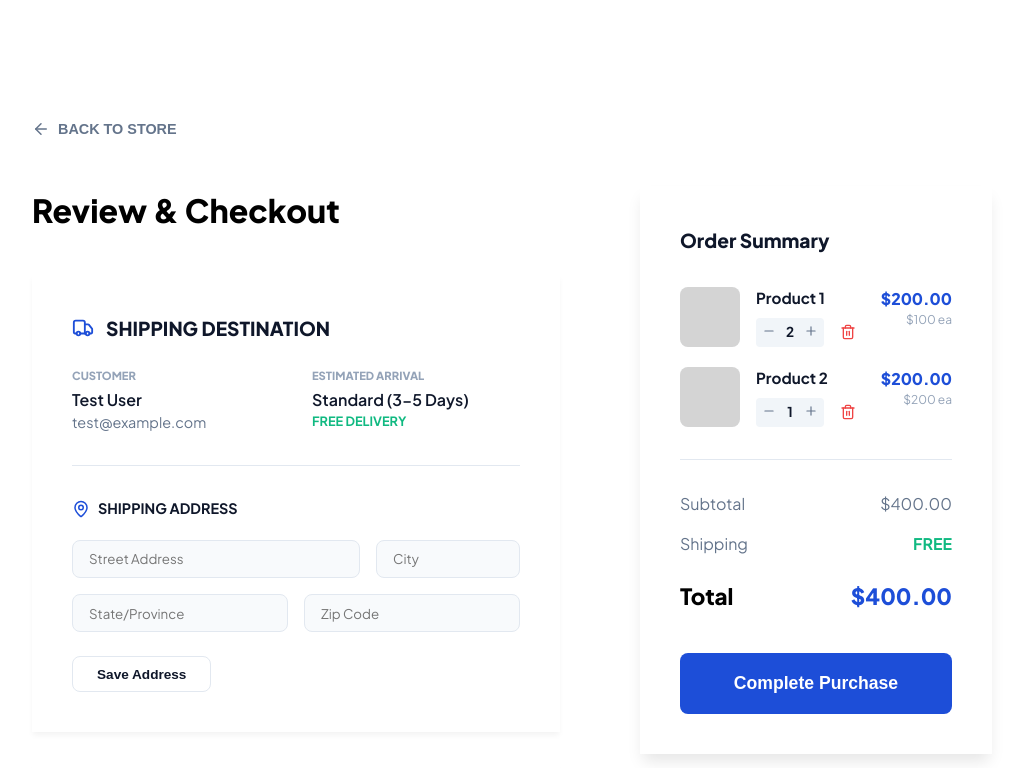
Test: Checkout Component › allows editing the address after saving
The image size is (1024, 768).
In the field with placeholder "Street Address": [216, 559] box [72,540,360,578], type "Main St"
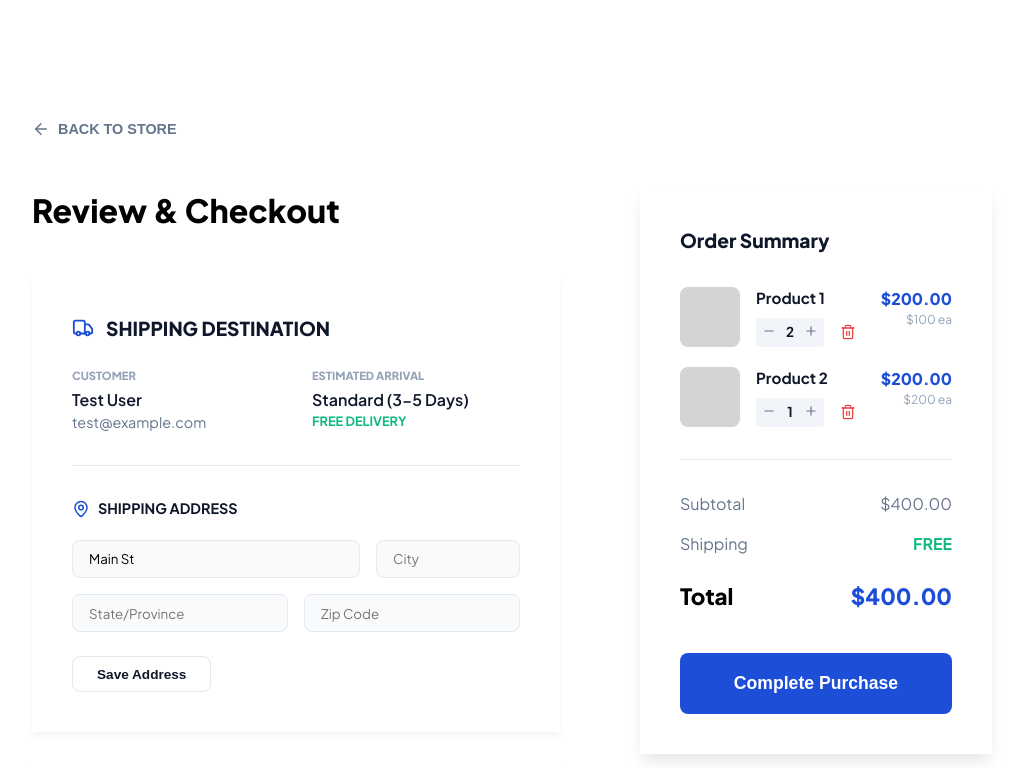
In the field with placeholder "City": [448, 559] box [376,540,520,578], type "San Jose"
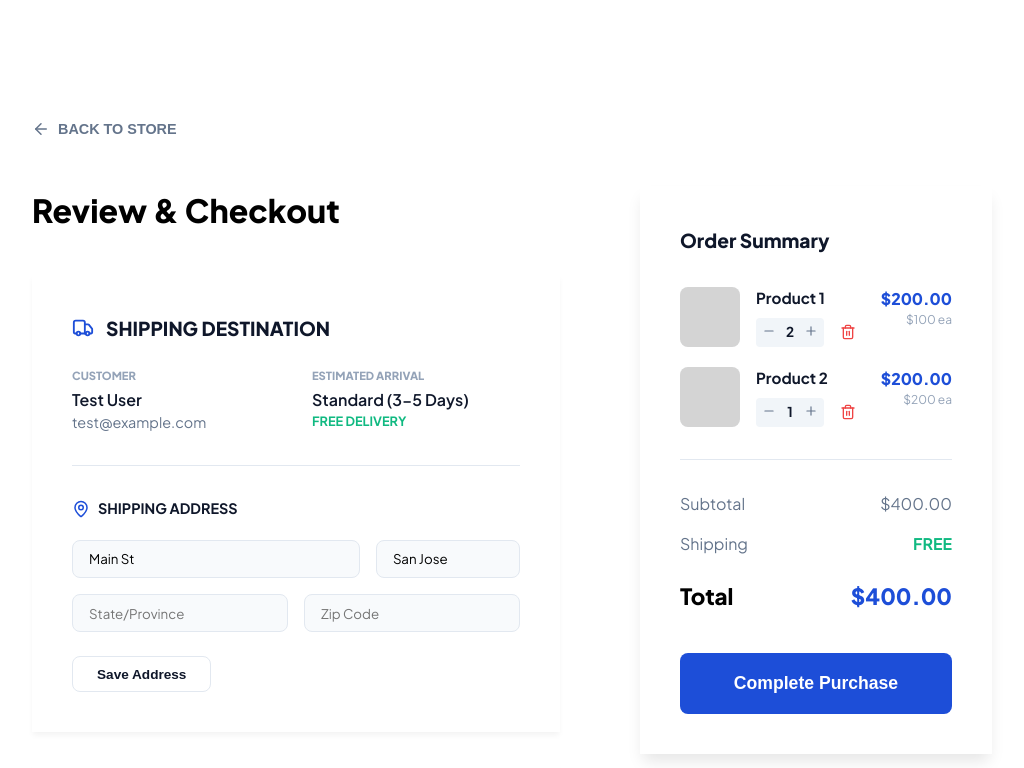
In the field with placeholder "State/Province": [180, 613] box [72,594,288,632], type "CA"
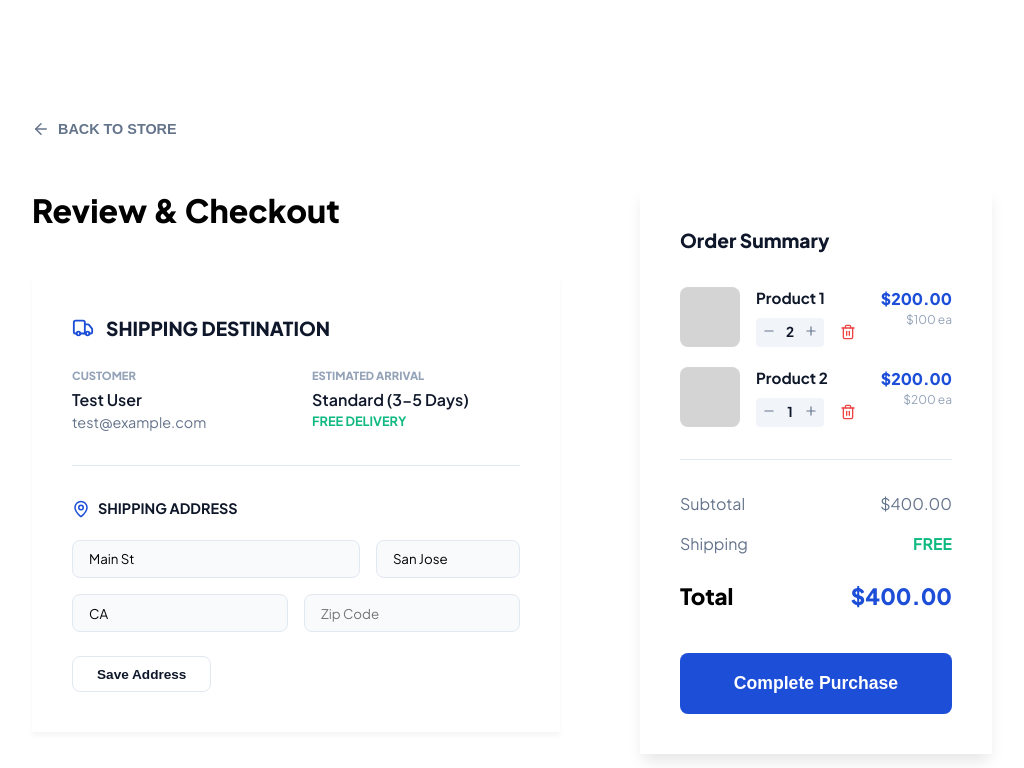
In the field with placeholder "Zip Code": [412, 613] box [304,594,520,632], type "95112"
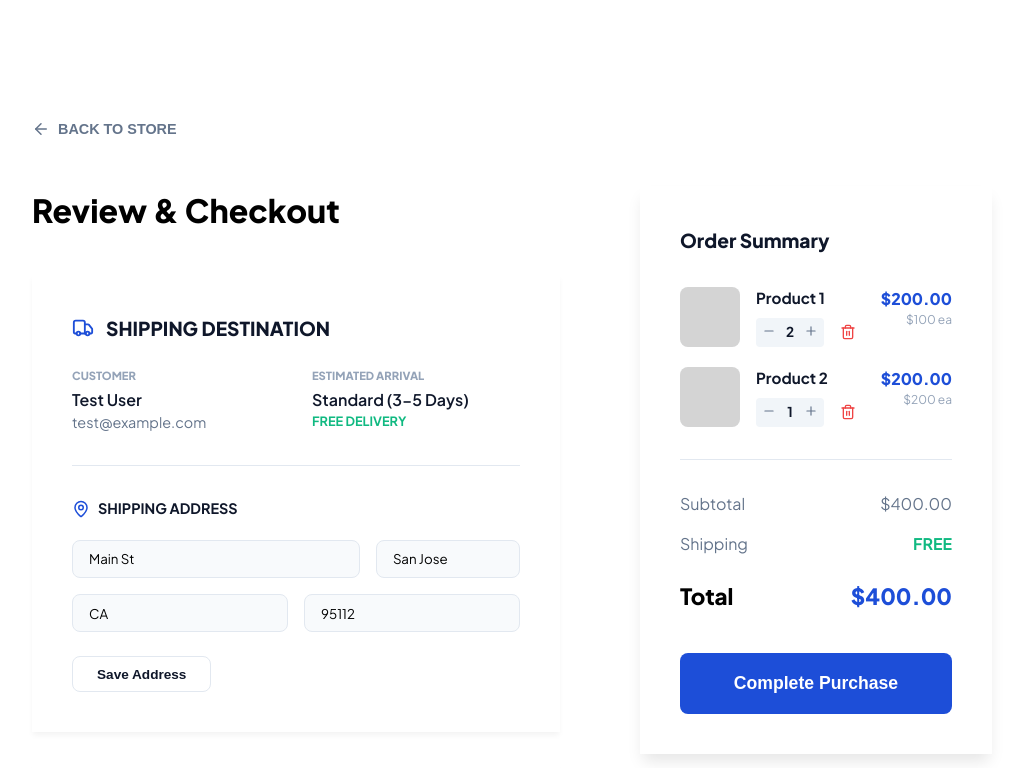
Click the button "Save Address": [142, 674] box [72,656,211,692]
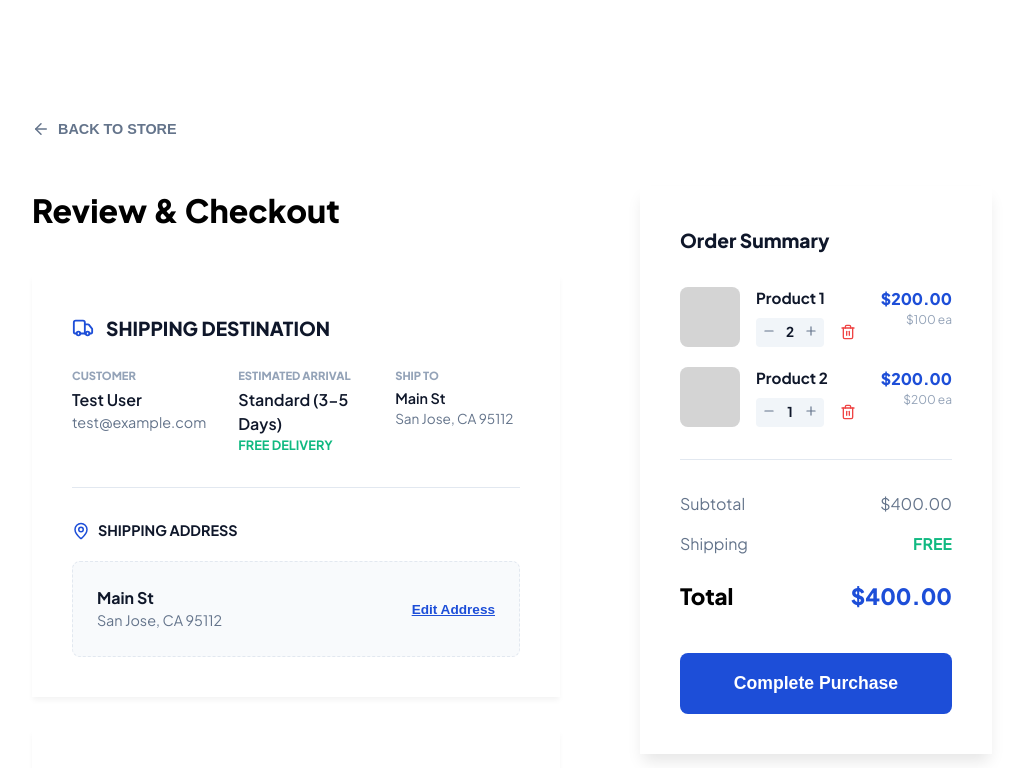
Click the button "Edit Address": [453, 609] box [412,602,495,617]
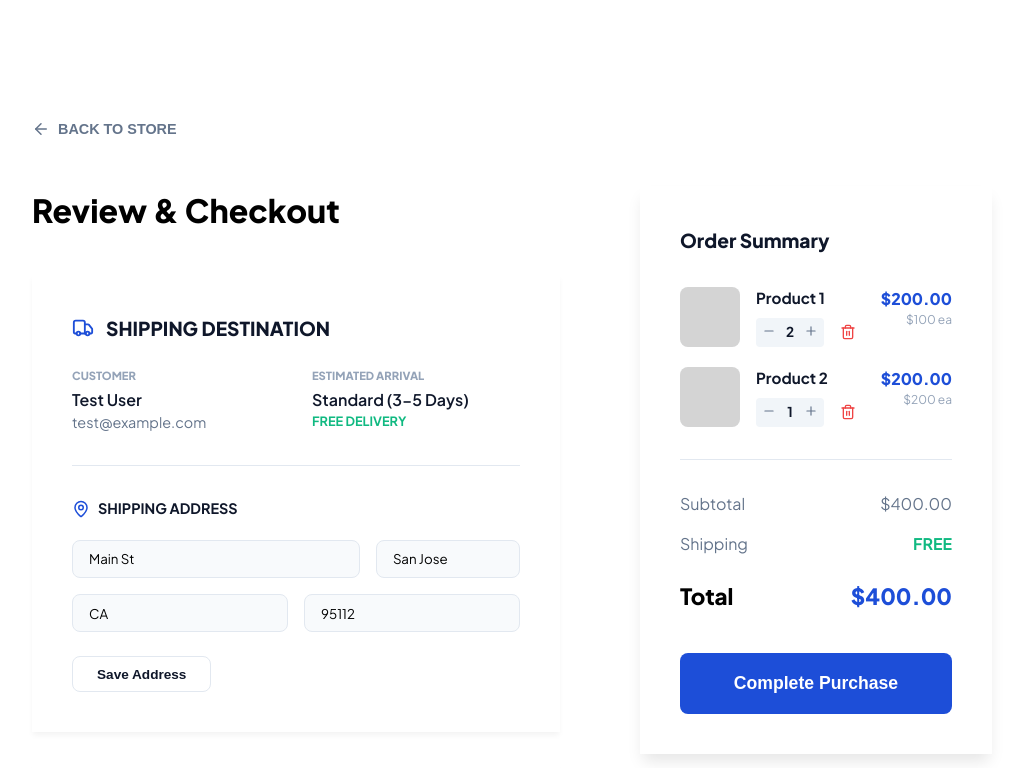
Expected: the 1st field with placeholder "Street Address" is shown, [72,540,360,578]
